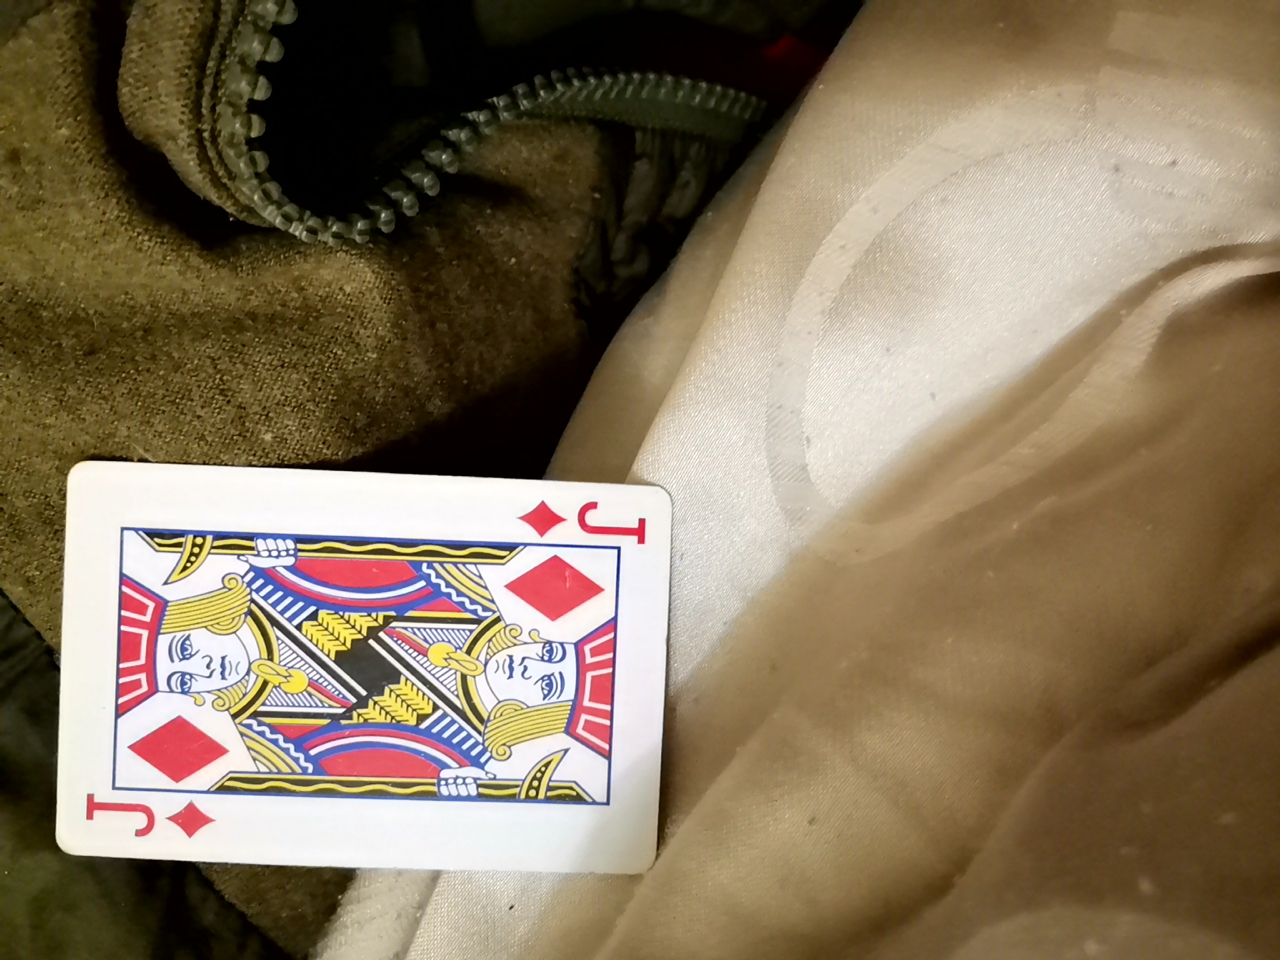fk j: (31, 474, 681, 884)
